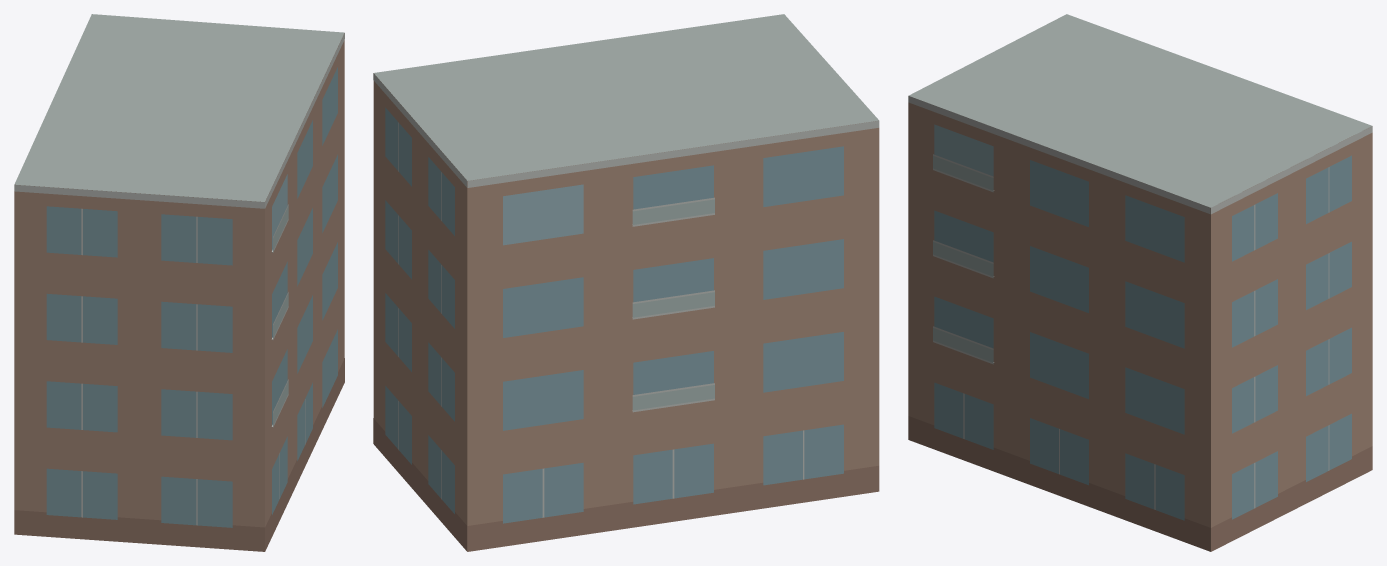
File: survey-upis-32893368.glb
3 views of the same model, side by side, from view 1: azimuth 30°, elevation 25°; view 2: azimuth 150°, elevation 25°; view 3: azimuth 270°, elevation 25° (orthographic). The views are drawn at different scales.
Parts seen in each view (by area): view 1: survey-upis-32893368.tmp; view 2: survey-upis-32893368.tmp; view 3: survey-upis-32893368.tmp.
Boxes of the visible parts, left/top/right/bottom form: survey-upis-32893368.tmp: left=14, top=14, right=344, bottom=551; survey-upis-32893368.tmp: left=373, top=14, right=879, bottom=551; survey-upis-32893368.tmp: left=908, top=14, right=1372, bottom=551.
Size of the model in its own units: 15.23 by 12.6 by 15.41.
